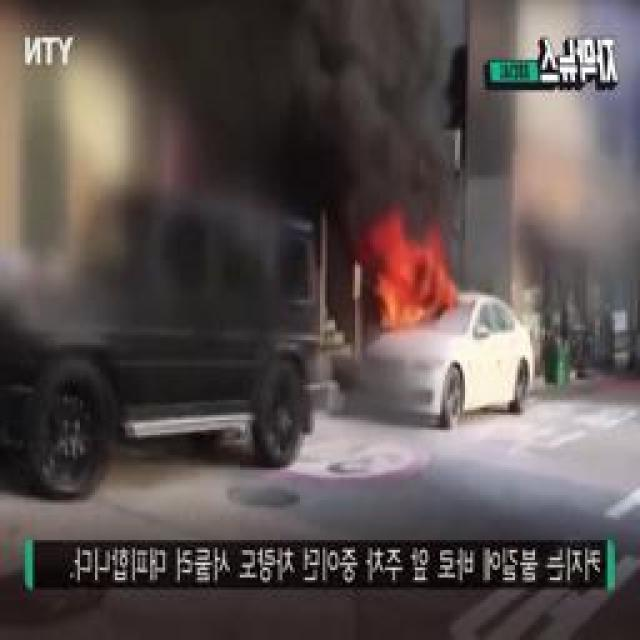Fire: (379, 236, 447, 330)
